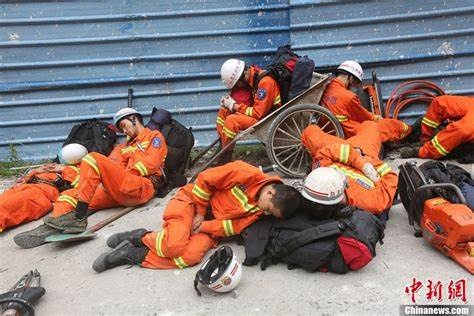falling: (2, 131, 80, 255)
